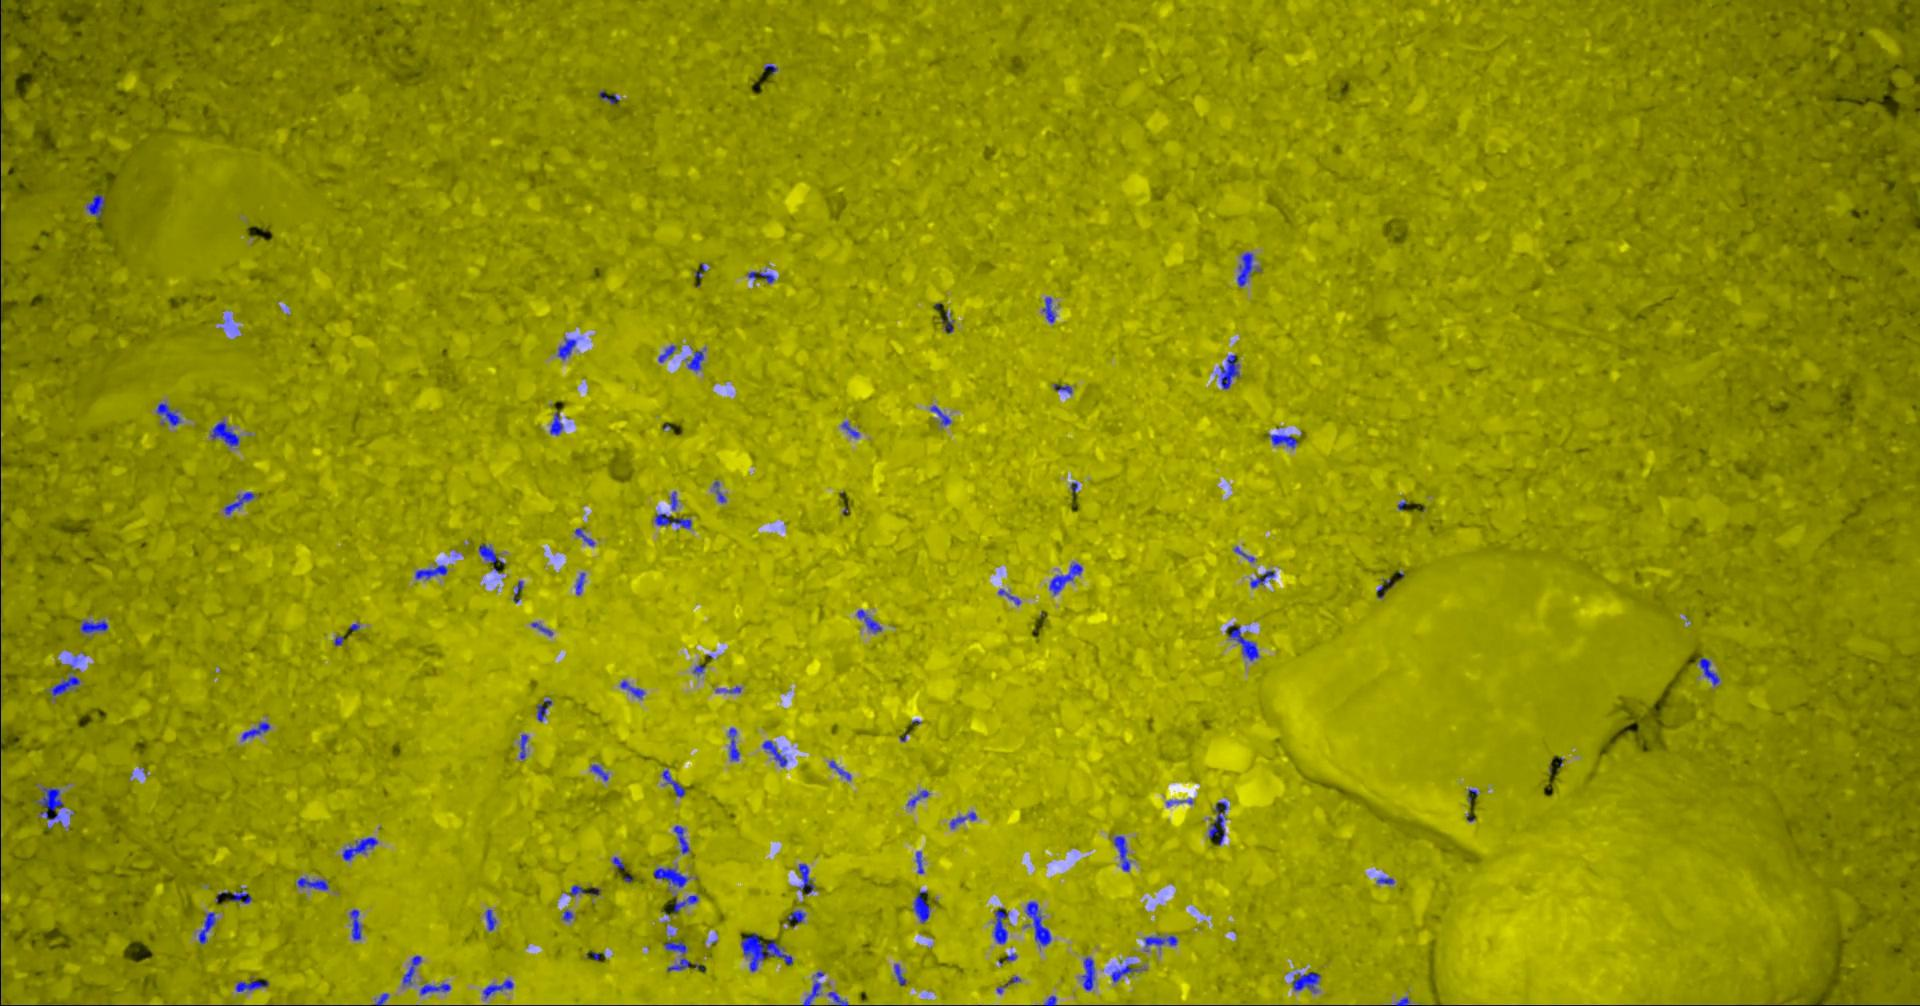ant: (743, 932, 794, 970), (1229, 625, 1260, 661), (1027, 901, 1051, 945), (1051, 563, 1084, 594), (36, 788, 63, 819), (665, 940, 692, 970), (344, 837, 378, 860), (1210, 801, 1228, 845), (212, 420, 241, 446), (804, 970, 825, 1005), (226, 492, 257, 514), (655, 868, 690, 887), (663, 768, 686, 796), (1293, 970, 1322, 992), (764, 741, 789, 766), (1115, 835, 1131, 871), (1700, 655, 1721, 685), (1222, 354, 1239, 387), (1112, 964, 1145, 982), (157, 401, 182, 426), (858, 608, 883, 633), (484, 979, 514, 998), (1238, 251, 1255, 286), (657, 513, 693, 528), (1145, 935, 1178, 951), (53, 676, 81, 695), (243, 721, 270, 741), (916, 890, 932, 922), (201, 911, 217, 942), (404, 955, 422, 984), (480, 542, 505, 563), (800, 862, 817, 893), (996, 907, 1010, 942), (951, 810, 978, 828), (687, 347, 707, 370), (417, 564, 450, 578), (622, 680, 646, 699), (88, 194, 107, 217), (1269, 434, 1299, 448), (1083, 956, 1096, 989), (932, 405, 952, 426), (559, 338, 578, 359), (830, 760, 852, 779), (298, 876, 330, 889), (1252, 570, 1276, 587), (676, 826, 690, 854), (730, 727, 742, 760), (237, 979, 270, 991), (674, 895, 698, 911), (908, 790, 930, 807), (571, 884, 602, 895), (422, 983, 452, 995), (749, 271, 776, 283), (83, 620, 109, 633), (350, 909, 362, 939), (1044, 297, 1057, 323), (551, 412, 565, 434), (577, 528, 596, 545), (660, 344, 677, 362), (789, 909, 806, 926), (829, 991, 850, 1005), (599, 90, 621, 103), (231, 890, 253, 903), (843, 420, 860, 437), (593, 763, 610, 780), (715, 481, 728, 502), (895, 963, 907, 984), (521, 734, 530, 760), (943, 312, 955, 332), (486, 909, 497, 930), (577, 572, 585, 594), (538, 704, 549, 721), (917, 851, 924, 873), (1, 3, 3, 53)
